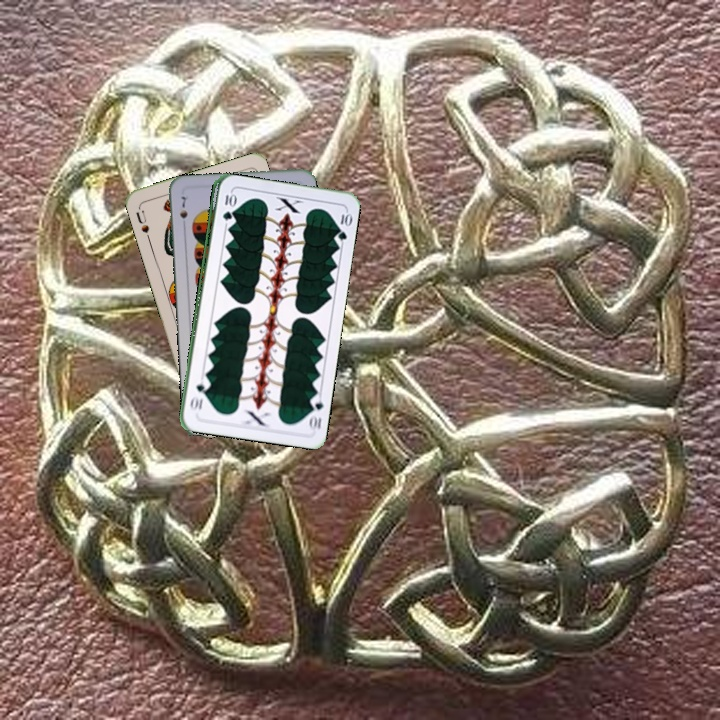G10: (304, 392, 326, 431), (219, 189, 235, 223)
S7: (176, 192, 190, 231)
SU: (132, 206, 153, 243)
